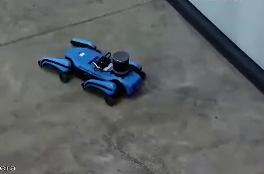robot dog: (34, 33, 153, 106)
